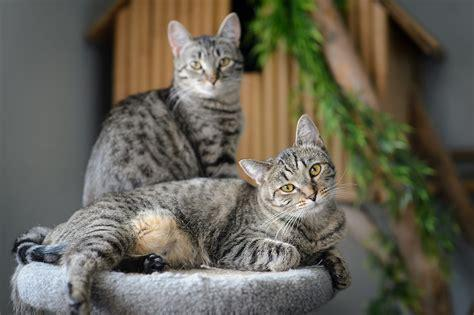cat: (13, 113, 350, 315), (82, 13, 242, 202)
